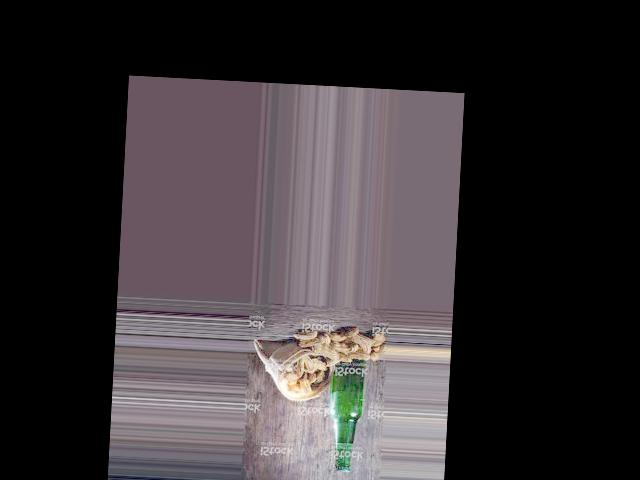beer: (325, 349, 366, 473)
